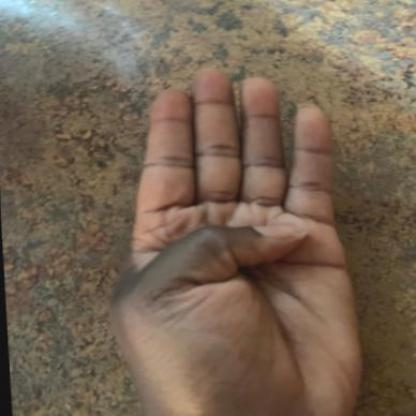B: (85, 54, 376, 416)
